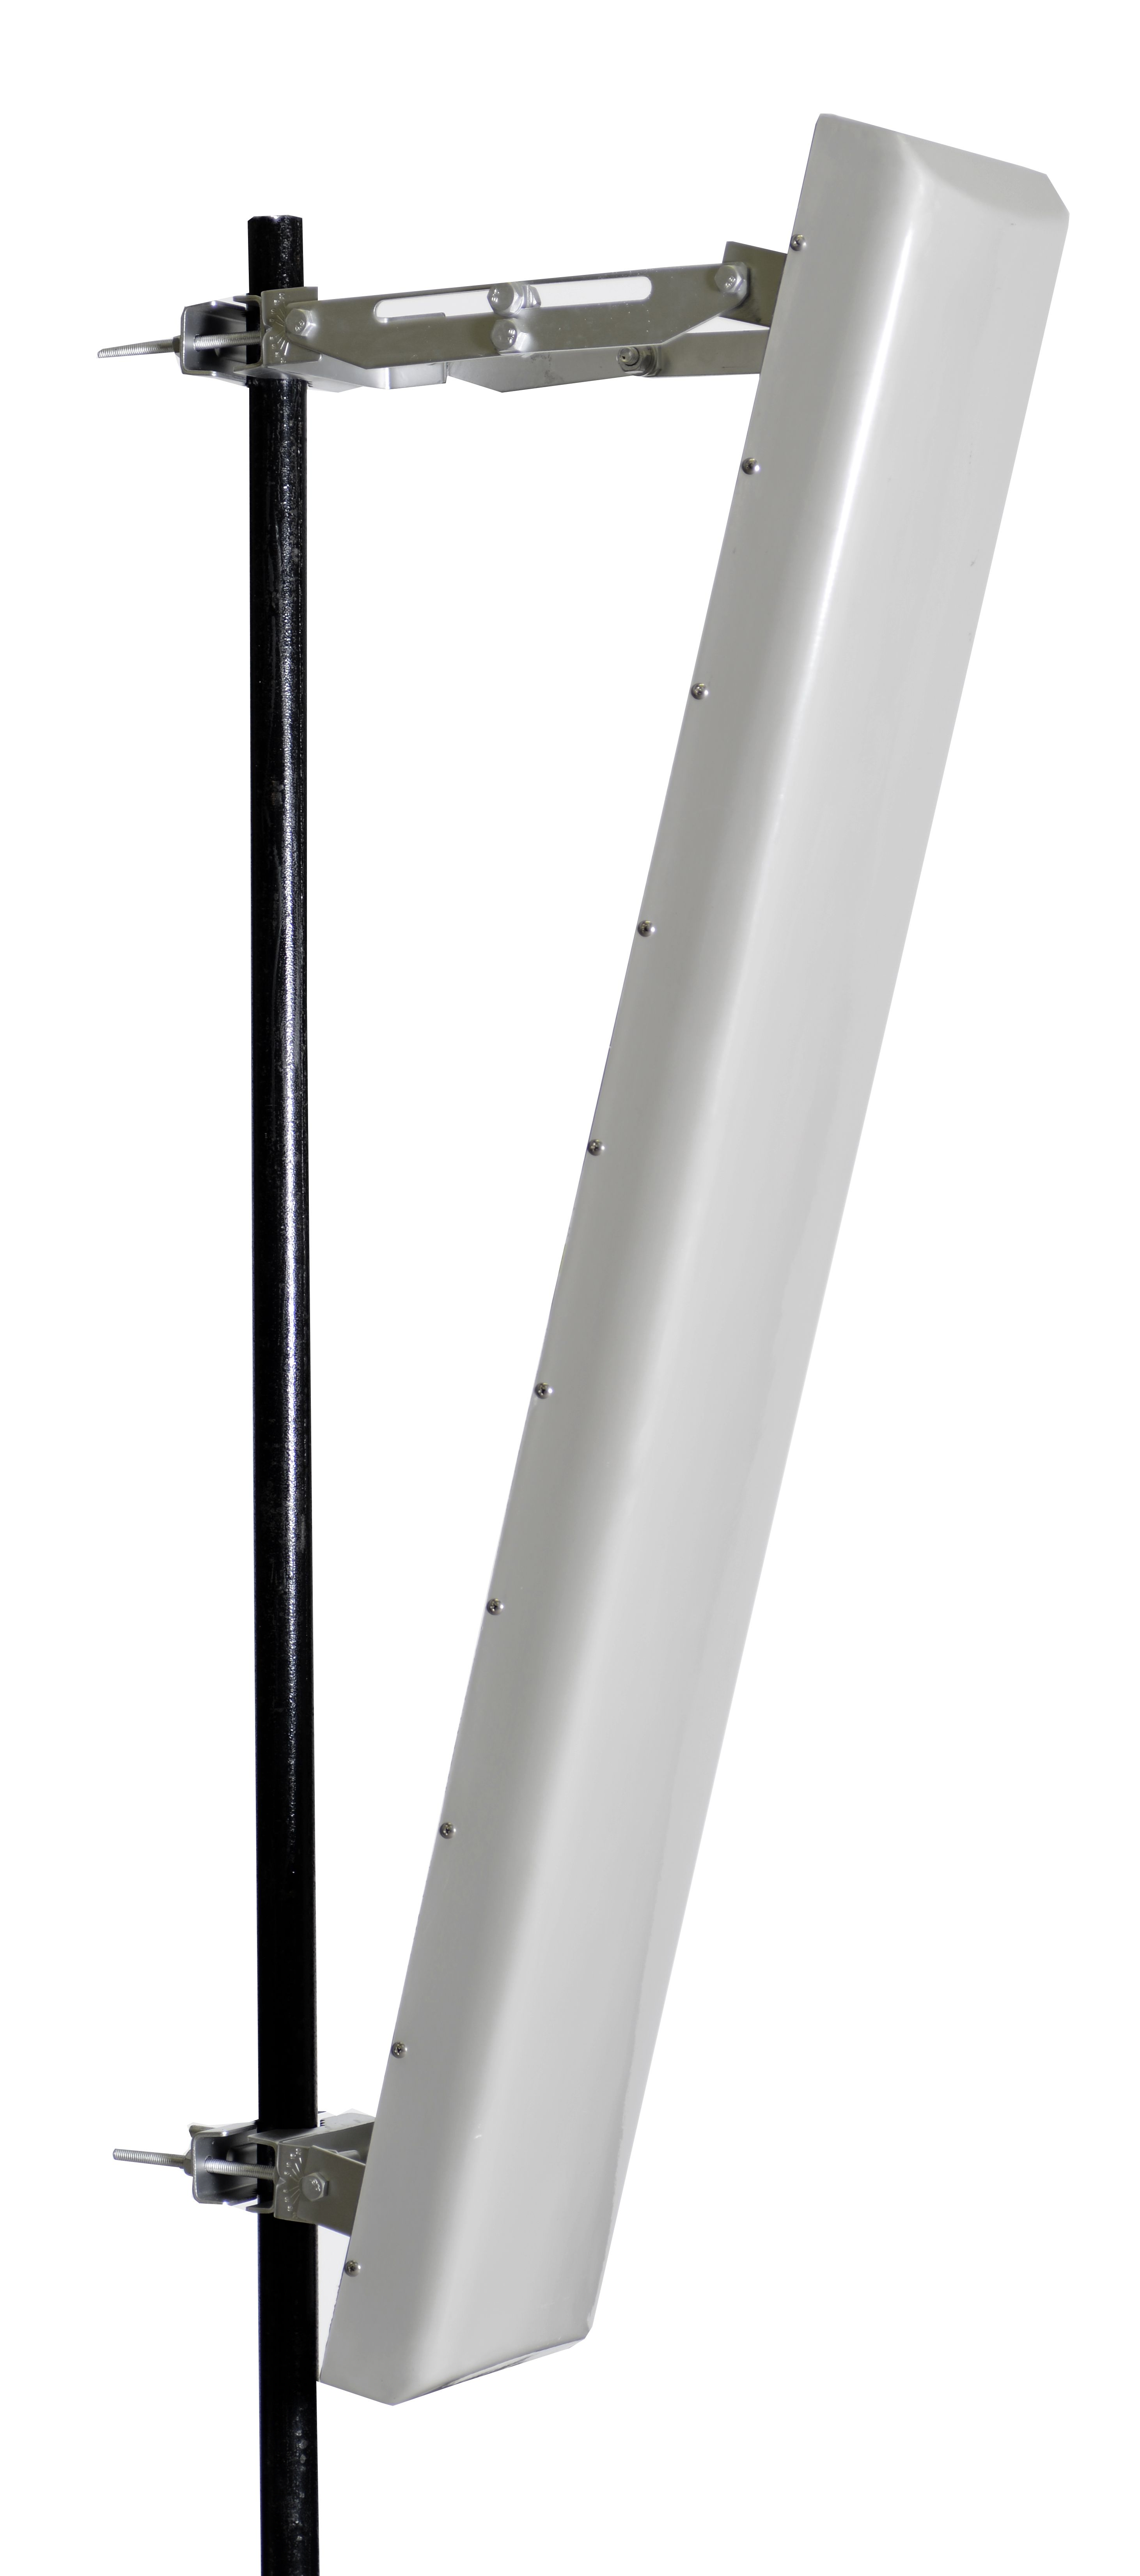sa: (117, 79, 1101, 2533)
